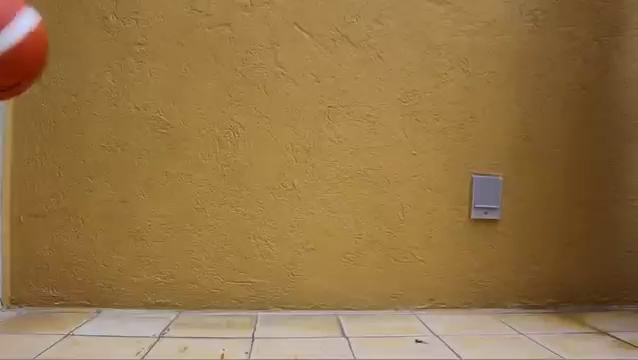ball: (1, 1, 52, 105)
